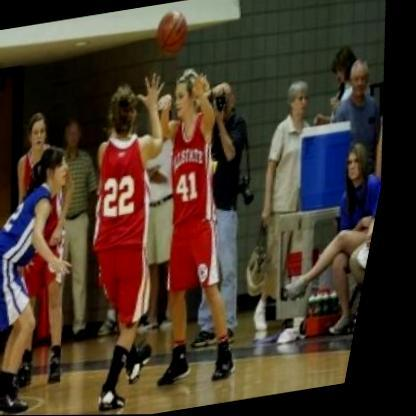basketball: (147, 11, 195, 58)
